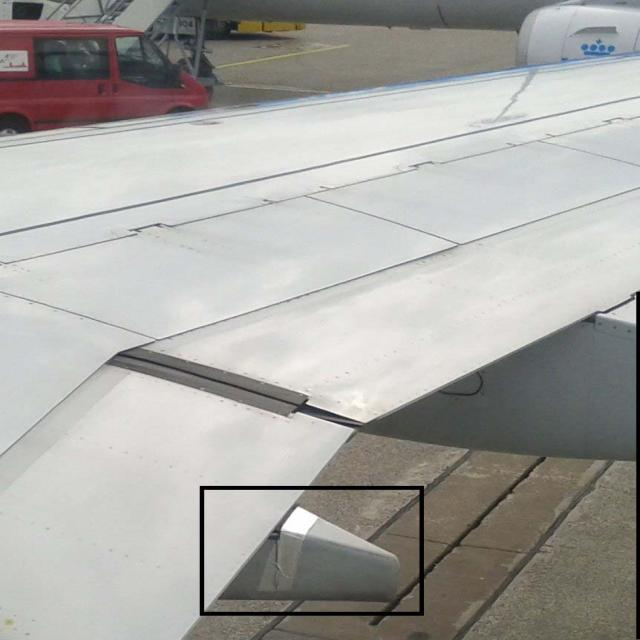Rupture: (273, 542, 291, 582)
